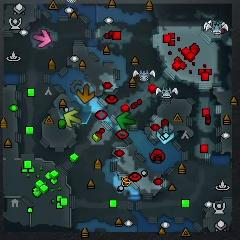x1: (34, 29, 52, 48)
x2: (63, 109, 83, 129)
x3: (155, 125, 176, 145)
x4: (116, 112, 136, 131)
x5: (77, 84, 96, 105)
